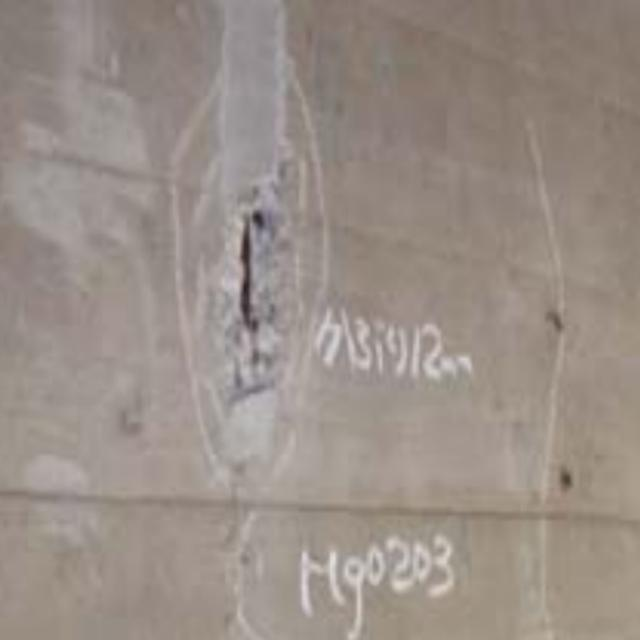spalling: (191, 156, 313, 404)
